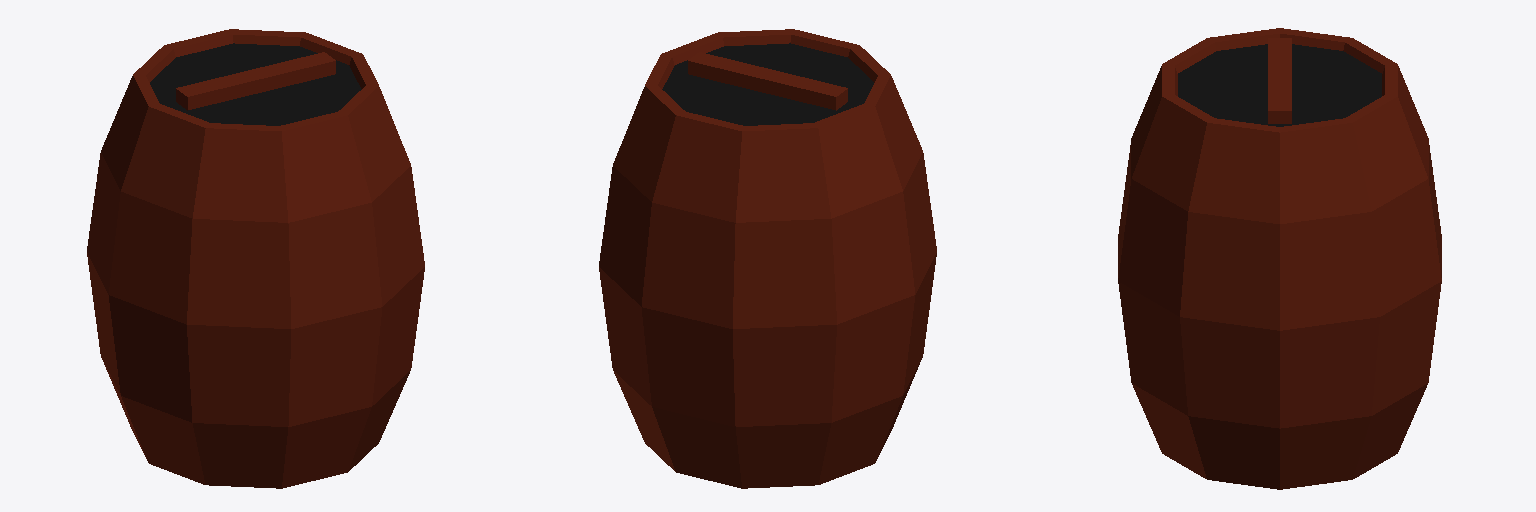
Rendered from Barrel_A.obj.
3 renders of one model, left to right at view 1: azimuth 30°, elevation 25°; view 2: azimuth 150°, elevation 25°; view 3: azimuth 270°, elevation 25°, orthographic.
Visible parts, largest first — view 1: Barrel_A; view 2: Barrel_A; view 3: Barrel_A.
Boxes of the visible parts, <box> form: Barrel_A: <box>87,29,424,488</box>; Barrel_A: <box>599,29,936,488</box>; Barrel_A: <box>1118,28,1441,489</box>.
Size of the model in its own units: 3.96 by 4.66 by 3.77.